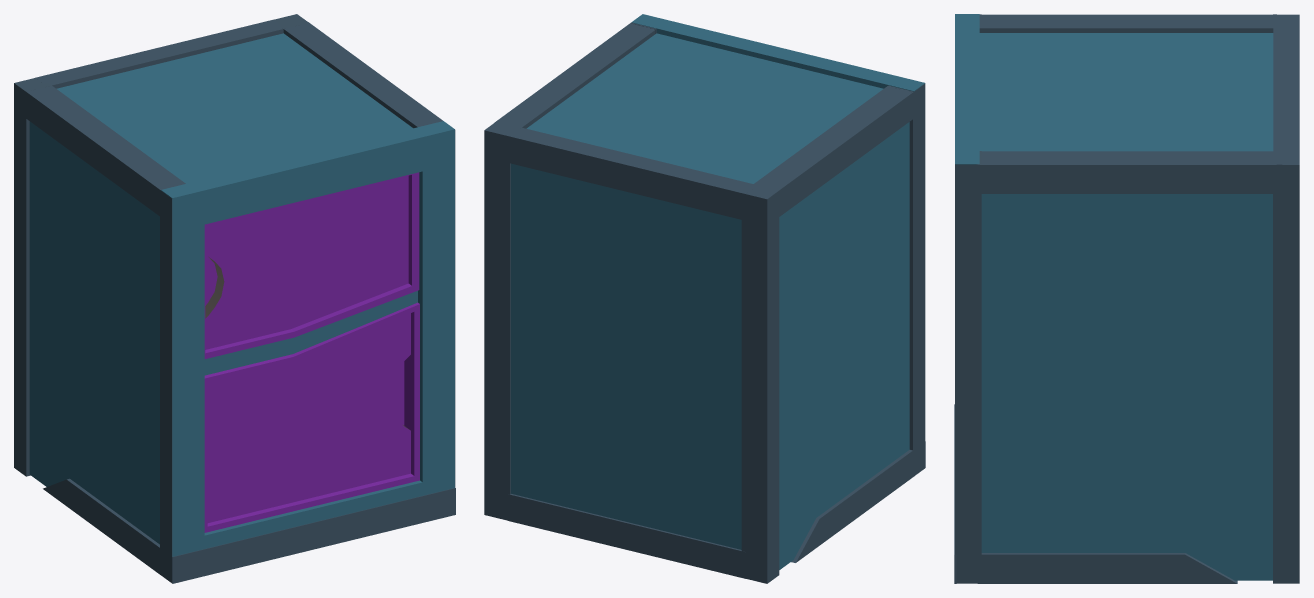
The model's file is bedside_table_tier17.fbx.
The picture shows the model from 3 angles, left to right: view 1: azimuth 30°, elevation 25°; view 2: azimuth 150°, elevation 25°; view 3: azimuth 270°, elevation 25°; orthographic projection. The views are drawn at different scales.
Visible parts, largest first — view 1: Cube.022, Cube.001, Cube.023, Cube.017, Cube.002, Cube.013, Cube.021, Cube.004, Cube.003, Cube.020, Cube.019, Cube.005 (+1 smaller); view 2: Cube.008, Cube.022, Cube.017, Cube.004, Cube.010, Cube.019, Cube.021, Cube.014, Cube.003, Cube.001, Cube.020, Cube.016; view 3: Cube.011, Cube.017, Cube.020, Cube.010, Cube.009, Cube.015, Cube.021, Cube.001, Cube.019.
Boxes of the visible parts, <box> form: Cube.022: <box>29,121,159,544</box>; Cube.001: <box>161,121,454,556</box>; Cube.023: <box>204,302,419,532</box>; Cube.017: <box>56,33,412,183</box>; Cube.002: <box>204,172,419,358</box>; Cube.013: <box>172,488,455,583</box>; Cube.021: <box>26,85,185,216</box>; Cube.004: <box>14,78,51,476</box>; Cube.003: <box>160,183,185,583</box>; Cube.020: <box>283,22,442,128</box>; Cube.019: <box>35,20,283,88</box>; Cube.005: <box>204,290,417,375</box>; Cube.008: <box>511,163,741,549</box>; Cube.022: <box>779,122,909,569</box>; Cube.017: <box>526,33,883,183</box>; Cube.004: <box>741,184,779,583</box>; Cube.010: <box>484,121,521,520</box>; Cube.019: <box>508,127,753,220</box>; Cube.021: <box>754,86,912,216</box>; Cube.014: <box>508,494,745,578</box>; Cube.003: <box>888,84,925,476</box>; Cube.001: <box>631,14,925,91</box>; Cube.020: <box>496,23,655,128</box>; Cube.016: <box>791,450,912,562</box>; Cube.011: <box>981,194,1272,580</box>; Cube.017: <box>979,33,1273,151</box>; Cube.020: <box>977,151,1276,193</box>; Cube.010: <box>1273,151,1299,583</box>; Cube.009: <box>955,151,981,583</box>; Cube.015: <box>977,553,1237,583</box>; Cube.021: <box>979,14,1273,32</box>; Cube.001: <box>955,14,979,164</box>; Cube.019: <box>1273,25,1299,152</box>.
Bounding box in the file's own units: 77.73 × 101 × 75.39.
